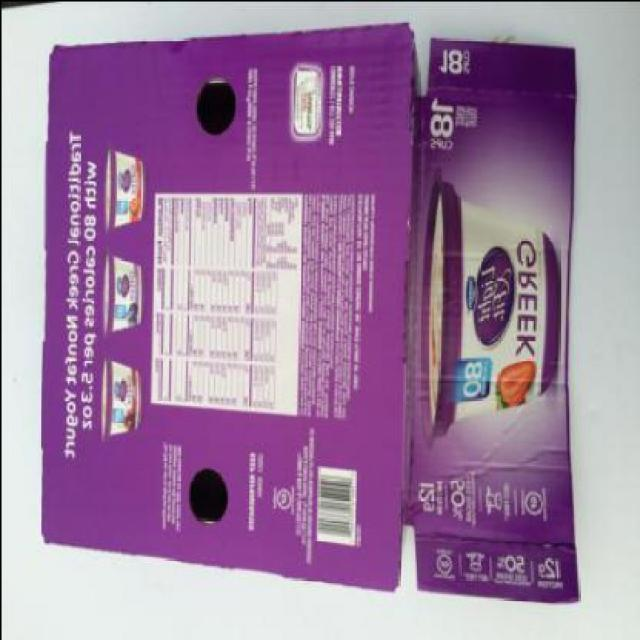box: (37, 22, 575, 603)
